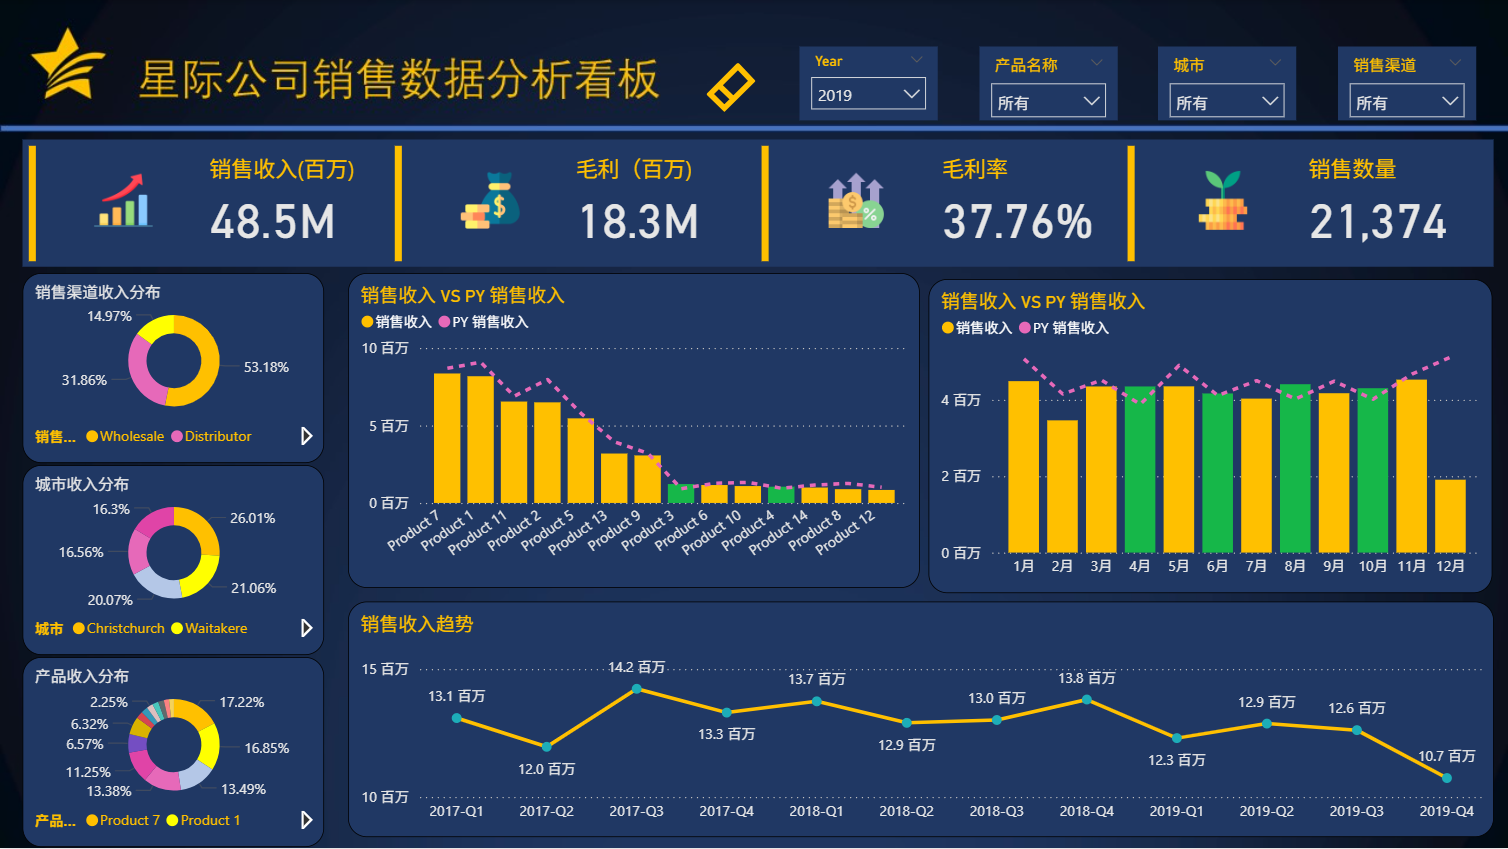

Layout of this report page (visuals, bound fields, positions):
{"tool":"powerbi","page":{"name":"第 1 页","canvas":[1280,720],"ordinal":0},"visuals":[{"type":"slicer","fields":{"Values":["dDate.Year"]},"box":[678.9,39.4,117.4,62.8],"z":0},{"type":"slicer","fields":{"Values":["产品数据.产品名称"]},"box":[831.2,39.4,117.4,62.8],"z":1000},{"type":"slicer","fields":{"Values":["地区.城市"]},"box":[983.5,39.4,117.4,62.8],"z":2000},{"type":"slicer","fields":{"Values":["销售订单记录.销售渠道"]},"box":[1135.8,39.4,117.4,62.8],"z":3000},{"type":"cardVisual","fields":{"Data":["DAX 表.销售收入百万显示","DAX 表.毛利（百万)","DAX 表.毛利率","DAX 表.销售数量"]},"box":[18.6,118.6,1248.6,108.1],"z":4000},{"type":"donutChart","title":"销售渠道收入分布","fields":{"Y":["DAX 表.销售收入"],"Category":["销售订单记录.销售渠道"]},"box":[18.6,231.4,255.8,161.6],"z":5000},{"type":"donutChart","title":"城市收入分布","fields":{"Y":["DAX 表.销售收入"],"Category":["地区.城市"]},"box":[18.6,395.3,255.8,161.6],"z":6000},{"type":"donutChart","title":"产品收入分布","fields":{"Y":["DAX 表.销售收入"],"Category":["产品数据.产品名称"]},"box":[18.6,558,255.8,161.6],"z":7000},{"type":"lineChart","title":"销售收入趋势","fields":{"Category":["dDate.Year-Quarter"],"Y":["DAX 表.销售收入"]},"box":[295,510.4,972.7,200.3],"z":8000},{"type":"lineClusteredColumnComboChart","title":"销售收入 VS PY 销售收入","fields":{"Category":["产品数据.产品名称"],"Y":["DAX 表.销售收入"],"Y2":["DAX 表.PY 销售收入"]},"box":[295,231.9,485,267.5],"z":9000},{"type":"lineClusteredColumnComboChart","title":"销售收入 VS PY 销售收入","fields":{"Y":["DAX 表.销售收入"],"Y2":["DAX 表.PY 销售收入"],"Category":["dDate.中文月份"]},"box":[788.2,236.6,478.9,266.5],"z":10000},{"type":"actionButton","box":[595.4,49.4,56.2,49.4],"z":11000}]}

Visuals, with their boxes in screenshot pixels (x1, y1, x2, y2), scaled from the page's 1280x720 canvas onto the 1508x849 screenshot:
slicer - dDate.Year: bbox=[800, 46, 938, 121]
slicer - 产品数据.产品名称: bbox=[979, 46, 1118, 121]
slicer - 地区.城市: bbox=[1159, 46, 1297, 121]
slicer - 销售订单记录.销售渠道: bbox=[1338, 46, 1476, 121]
cardVisual - DAX 表.销售收入百万显示 x DAX 表.毛利（百万): bbox=[22, 140, 1493, 267]
"销售渠道收入分布" donutChart: bbox=[22, 273, 323, 463]
"城市收入分布" donutChart: bbox=[22, 466, 323, 657]
"产品收入分布" donutChart: bbox=[22, 658, 323, 848]
"销售收入趋势" lineChart: bbox=[348, 602, 1494, 838]
"销售收入 VS PY 销售收入" lineClusteredColumnComboChart: bbox=[348, 273, 919, 589]
"销售收入 VS PY 销售收入" lineClusteredColumnComboChart: bbox=[929, 279, 1493, 593]
actionButton: bbox=[701, 58, 768, 117]
